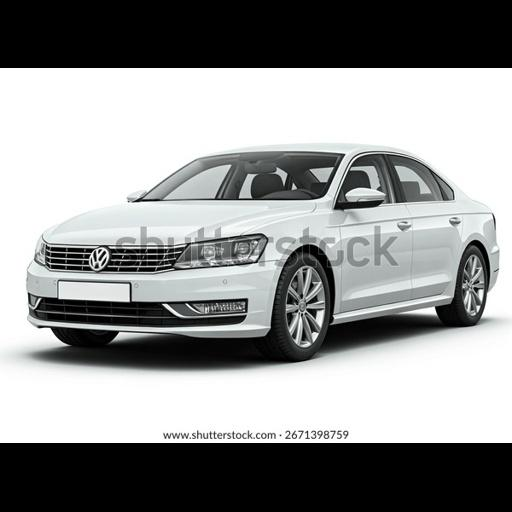sedan: (28, 144, 498, 359)
